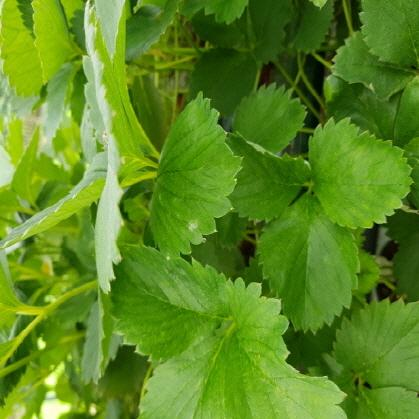Powdery Mildew Leaf: (147, 89, 245, 257)
